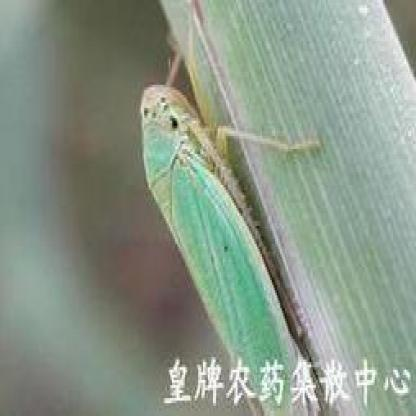Green-Leafhopper: (135, 35, 323, 416)
